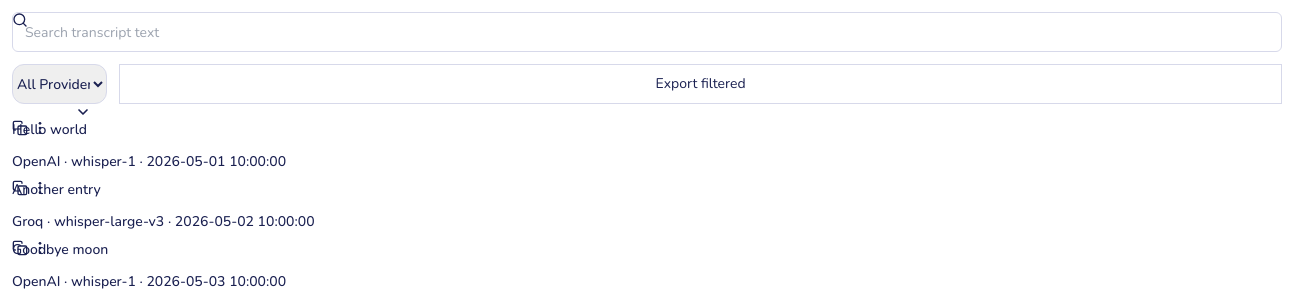
Test: <History /> › filters by provider when a provider is chosen
The width and height of the screenshot is (1292, 306).
Select "Groq" in the dropdown named "provider": (60, 84) top-left (12, 64), bottom-right (107, 104)
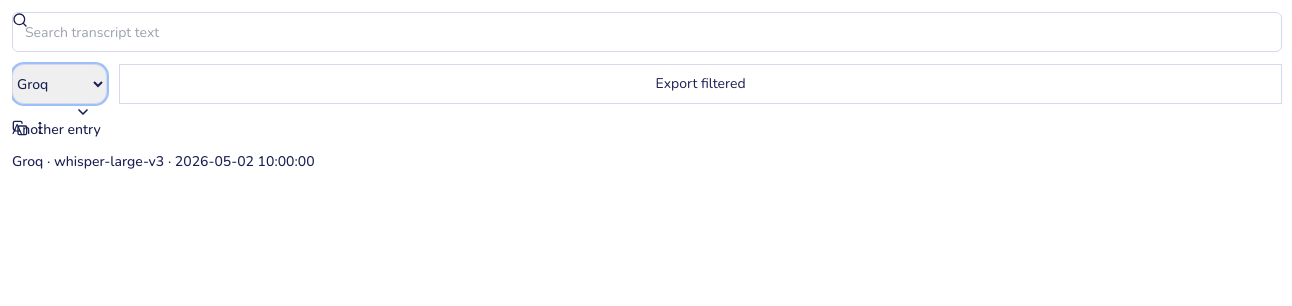
Expected: the list item with test id "history-row" shows "Another entry", top-left (12, 120), bottom-right (101, 139)
Expected: the number of list items with test id "history-row" is 1, top-left (12, 120), bottom-right (314, 171)
